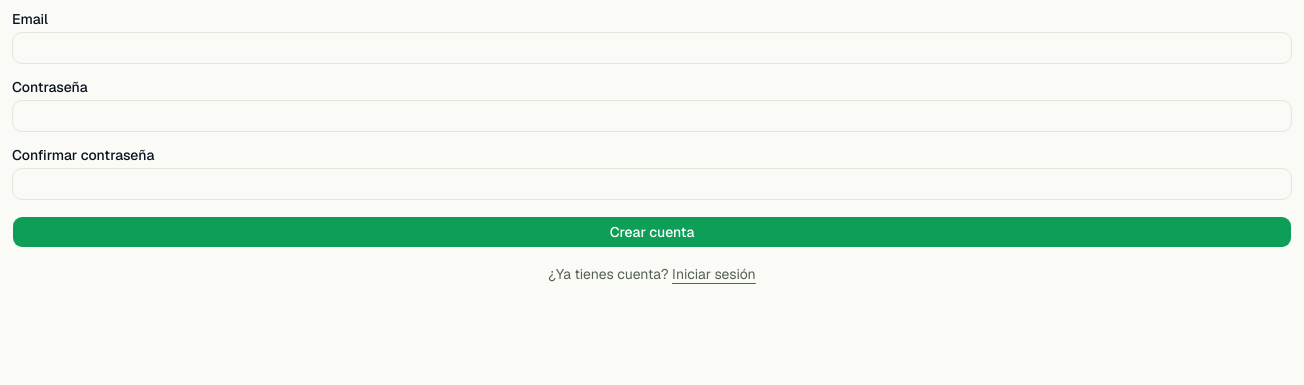
Test: SignUpForm client validation › blocks submission and shows errors for an invalid email + mismatched passwords
Type "not-an-email" into the field labelled "Email" at point(652, 48), box top-left (12, 32), bottom-right (1292, 64)
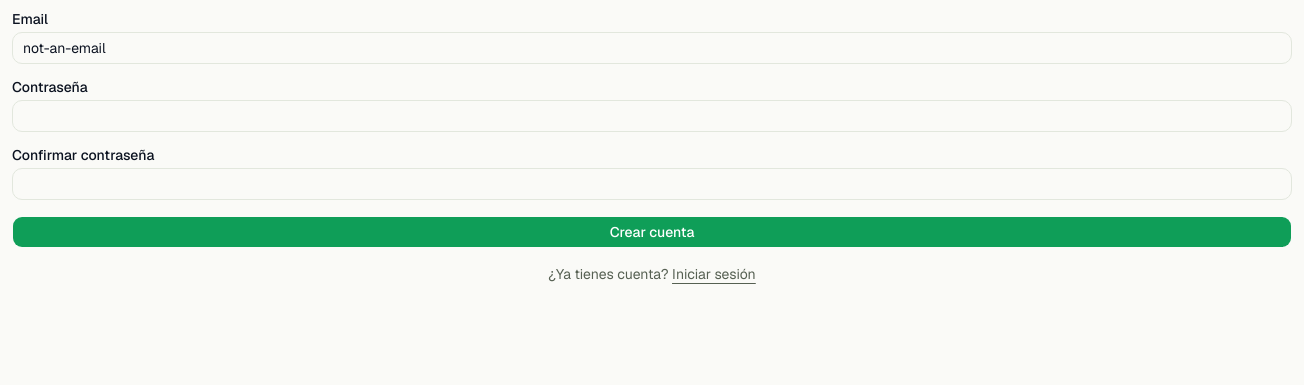
Type "supersecret" into the password field labelled "Contraseña" at point(652, 116), box top-left (12, 100), bottom-right (1292, 132)
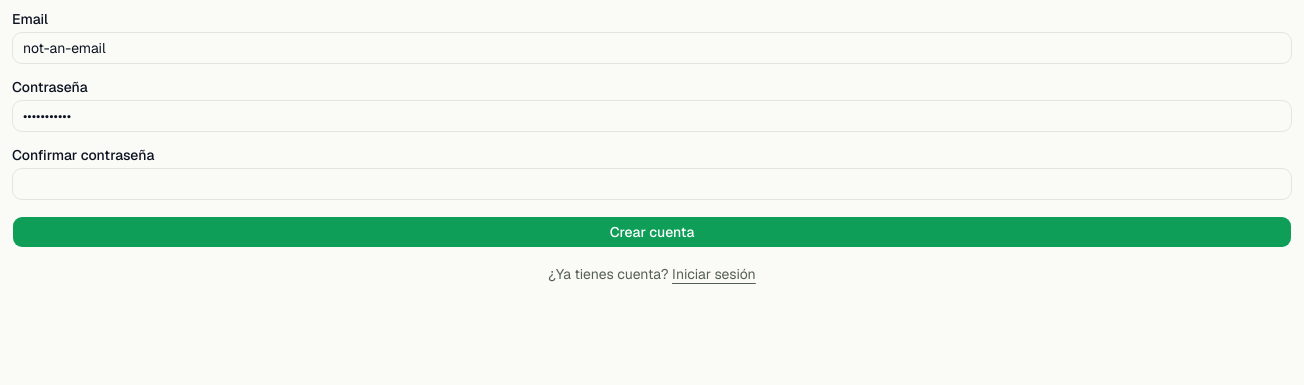
Type "different" into the password field labelled "Confirmar contraseña" at point(652, 184), box top-left (12, 168), bottom-right (1292, 200)
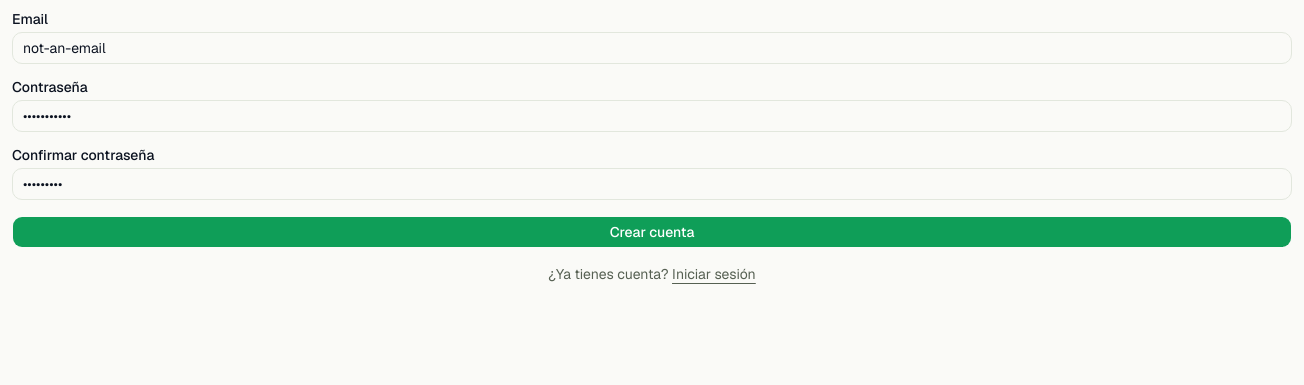
Click the button "Crear cuenta" at point(652, 232), box top-left (12, 216), bottom-right (1292, 248)
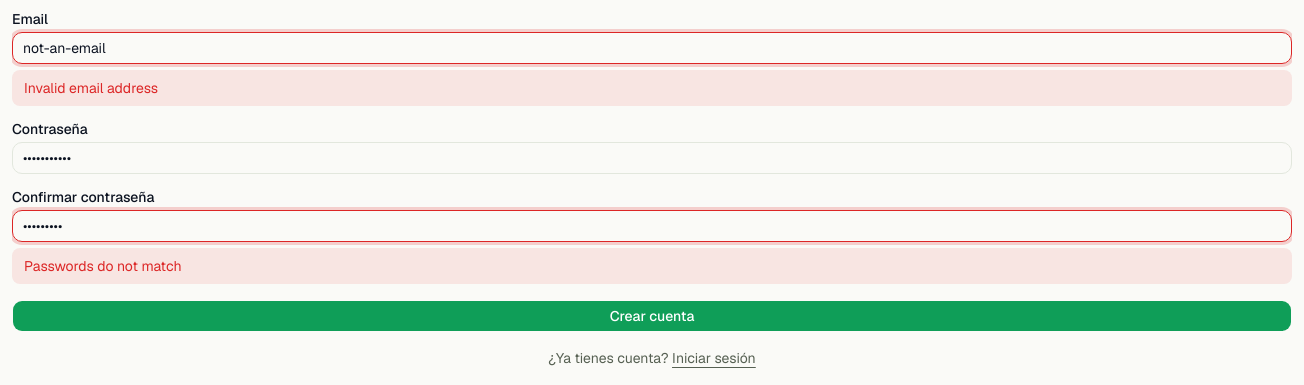
Now the text "Invalid email address" is shown, box top-left (24, 79), bottom-right (158, 97)
Now the text "Passwords do not match" is shown, box top-left (24, 257), bottom-right (182, 275)
